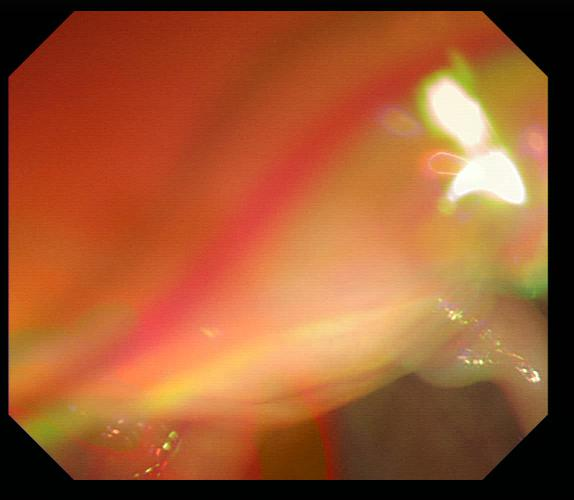polyp: (409, 346, 493, 388)
